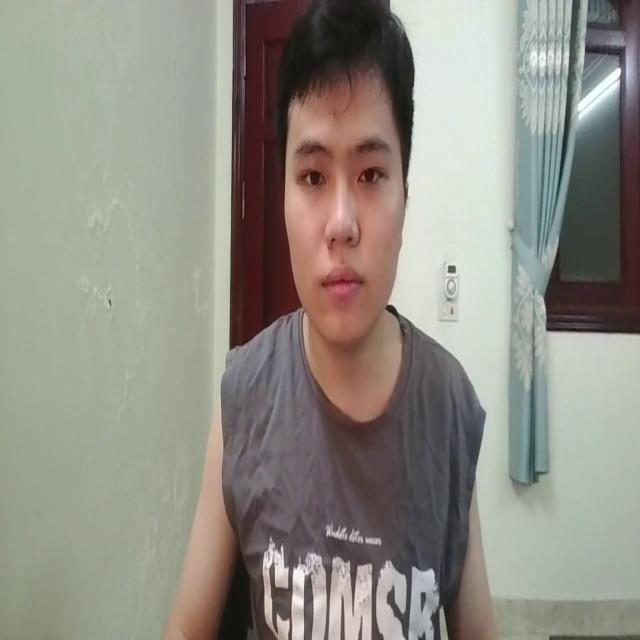student: (180, 0, 496, 640)
